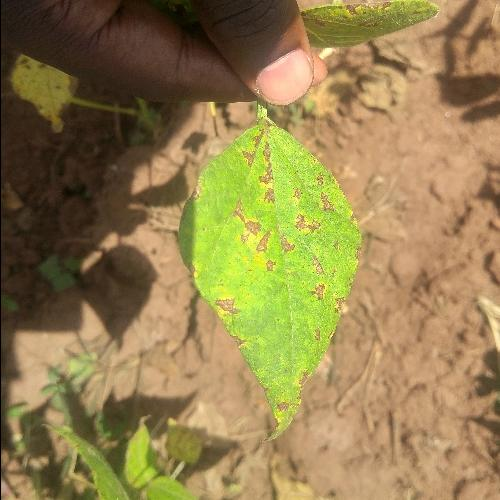hawar: (206, 116, 316, 426)
